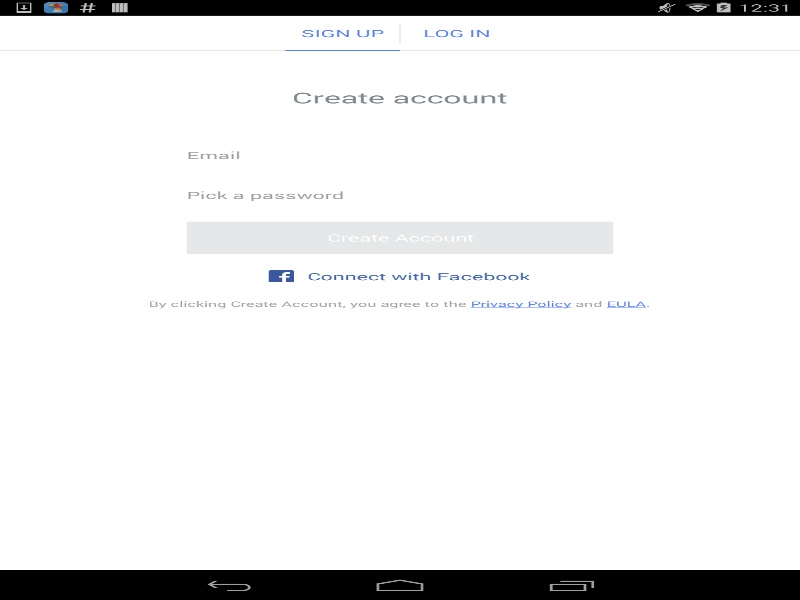Input: (186, 145, 613, 165), (186, 185, 613, 205)
